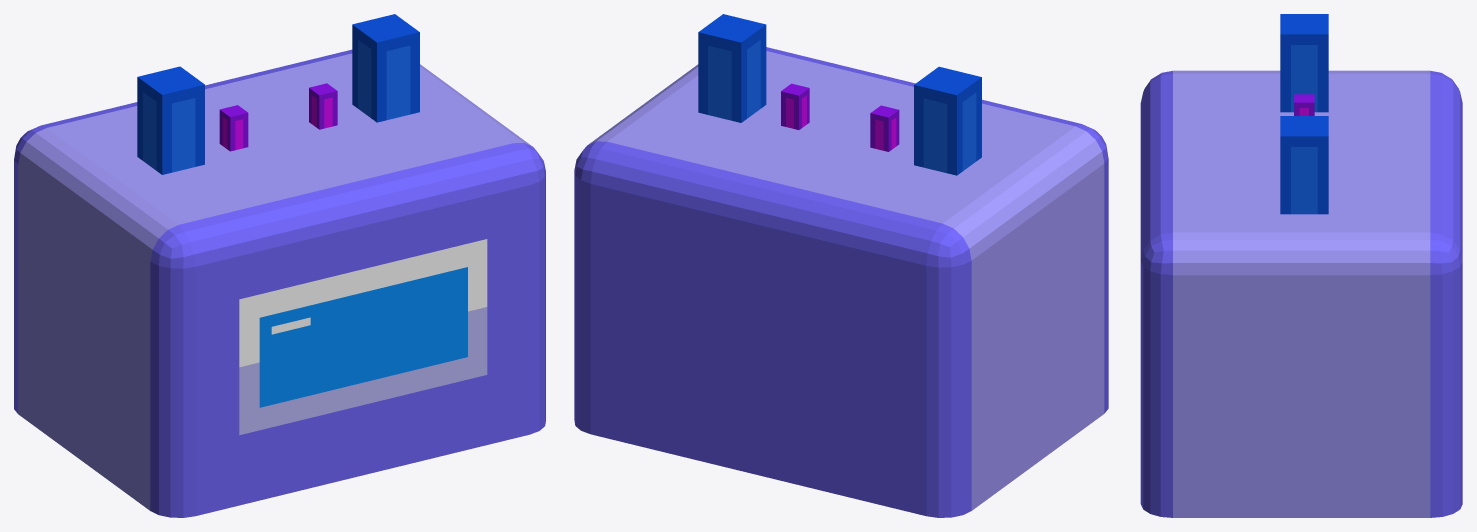
File: Building_020_a.fbx
The picture shows the model from 3 angles, left to right: view 1: azimuth 30°, elevation 25°; view 2: azimuth 150°, elevation 25°; view 3: azimuth 270°, elevation 25°; orthographic projection. The views are drawn at different scales.
Parts seen in each view (by area): view 1: Building_020_a_h; view 2: Building_020_a_h; view 3: Building_020_a_h.
Boxes of the visible parts, x1,y1,x2,y2 form: Building_020_a_h: [14, 14, 545, 517]; Building_020_a_h: [574, 14, 1108, 517]; Building_020_a_h: [1140, 14, 1462, 517].
Bounding box in the file's own units: 6.05 × 5.31 × 4.48.
